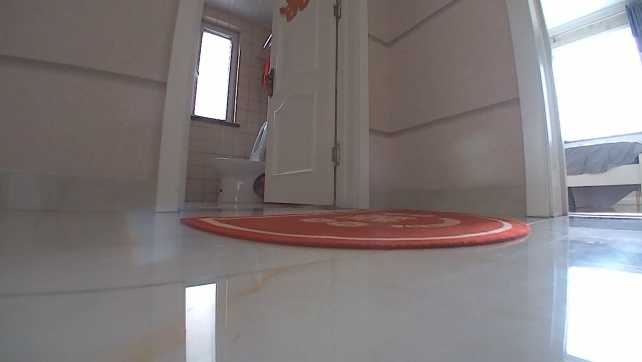blanket: (180, 207, 528, 248)
door_anno: (260, 0, 367, 208)
toilet: (210, 119, 268, 203)
